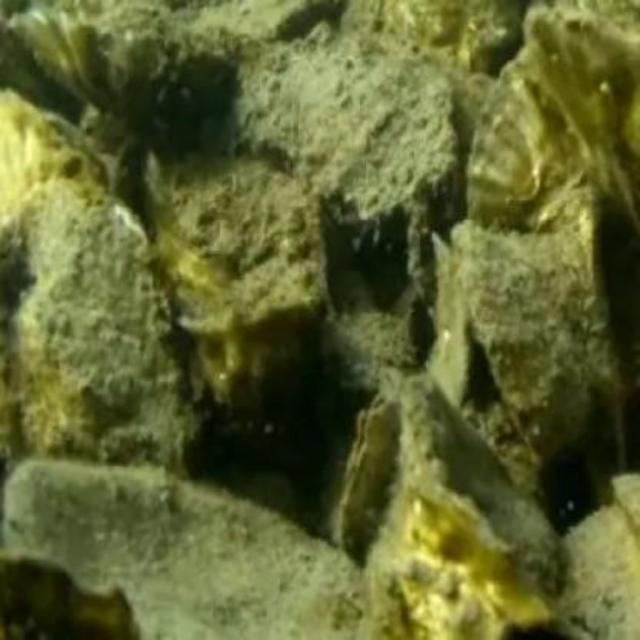Oyster-Closed: (2, 462, 379, 640), (14, 181, 187, 472), (457, 207, 640, 467), (233, 32, 457, 220), (144, 146, 332, 332), (522, 10, 640, 216), (22, 31, 241, 135), (472, 48, 582, 226), (0, 94, 118, 259), (338, 391, 404, 561), (566, 506, 640, 640), (612, 474, 640, 524)
